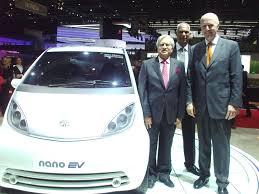Nano: (1, 43, 149, 194)
